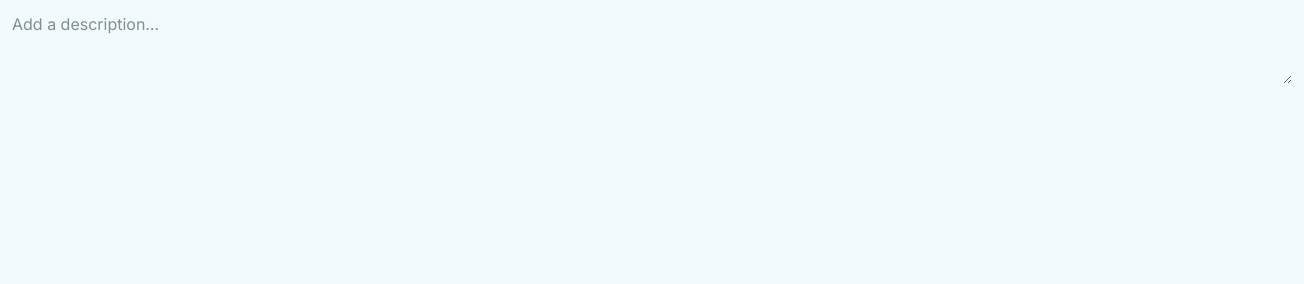
Test: SlashTextarea › typing "/ai" filters the menu to the AI command
The width and height of the screenshot is (1304, 284).
Step 1. Press / in the text box labelled "description", box [12,12,1292,84]
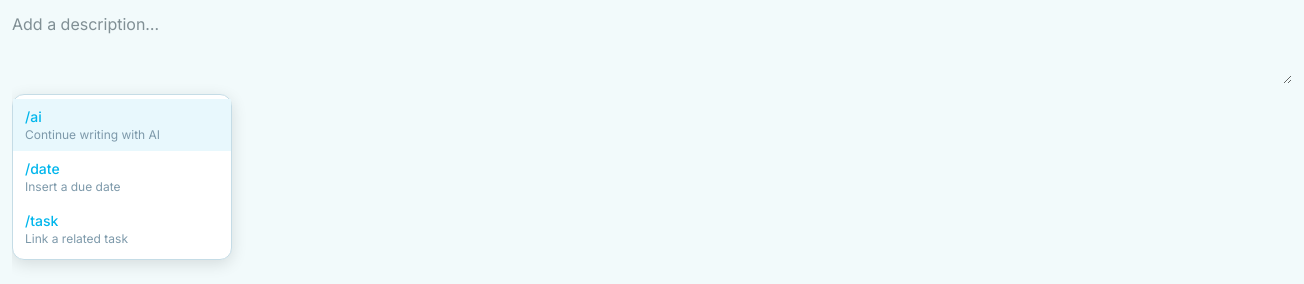
Step 2. Type "/" into the text box labelled "description" → (652, 48), box [12,12,1292,84]
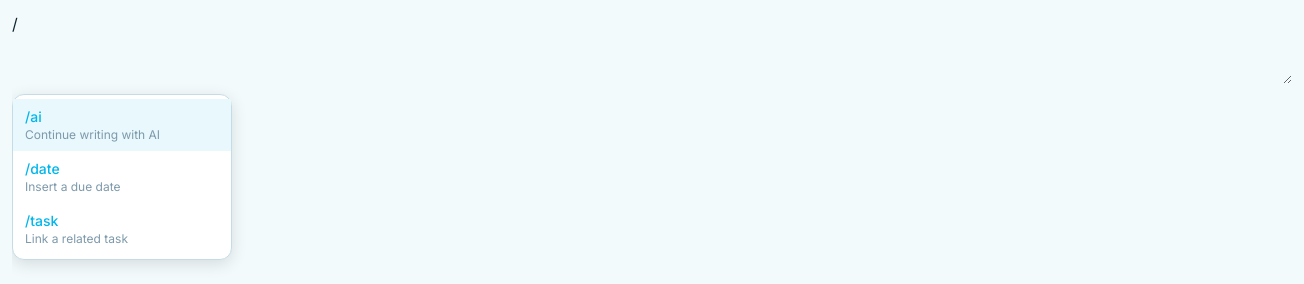
# Type 'a' after '/'
Step 3. Replace the text in the text box named "description" with "/a" → (652, 48), box [12,12,1292,84]
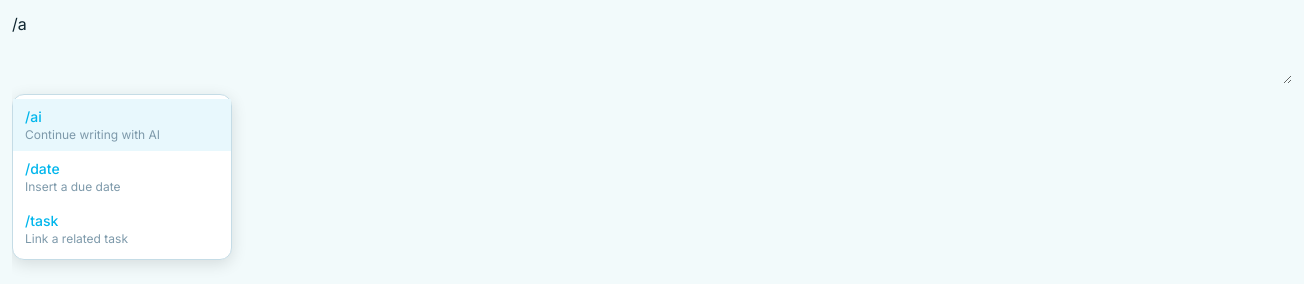
# Type 'i' — now query is 'ai'
Step 4. Replace the text in the text box named "description" with "/ai" → (652, 48), box [12,12,1292,84]
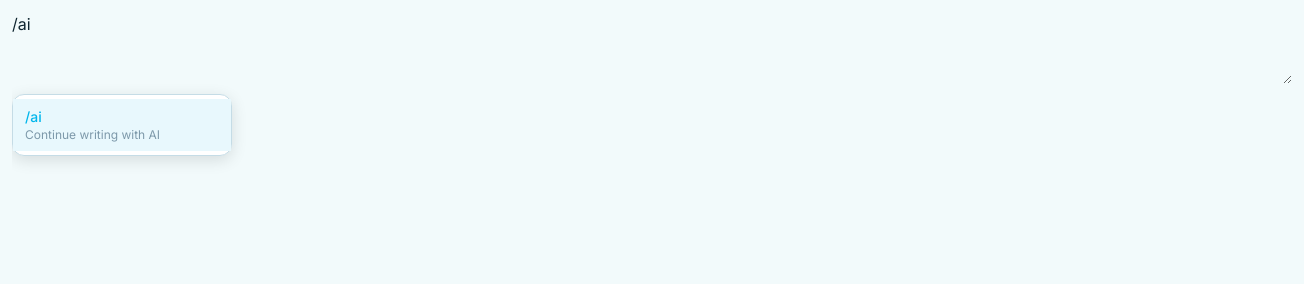
Expected: the text "/ai" is shown, [25,107,42,127]
Expected: the option "/date" is gone
Expected: the option "/task" is gone
